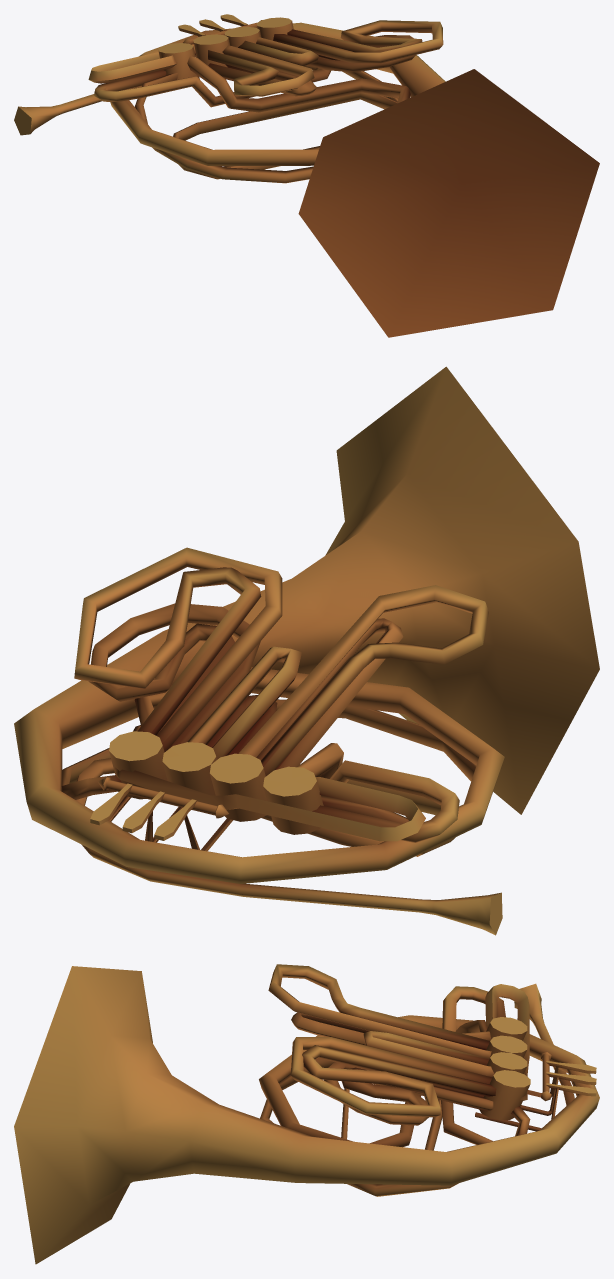
3 views of the same model, one above another, from view 1: azimuth 30°, elevation 25°; view 2: azimuth 150°, elevation 25°; view 3: azimuth 270°, elevation 25° (orthographic). The views are drawn at different scales.
Parts seen in each view (by area): view 1: FrenchHorn; view 2: FrenchHorn; view 3: FrenchHorn.
Part boxes in pixels (x1,y1,x2,y2): FrenchHorn: (14, 14, 599, 337); FrenchHorn: (14, 366, 599, 935); FrenchHorn: (14, 964, 599, 1264).
Bounding box in the file's own units: 0.3799 × 0.2723 × 0.5.
